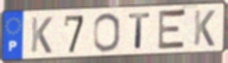7: (63, 14, 86, 54)
E: (156, 8, 188, 52)
K: (29, 16, 54, 55), (192, 9, 217, 48)
O: (92, 12, 122, 53)
T: (127, 12, 152, 51)
